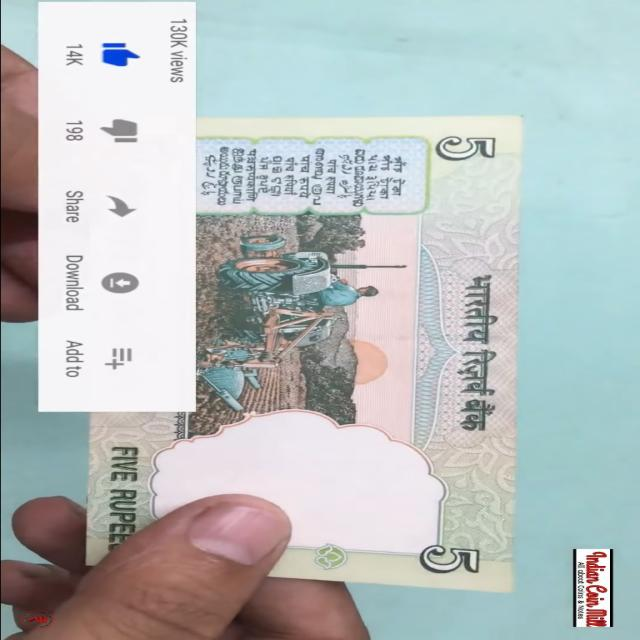5IndianRupees: (57, 114, 534, 592)
